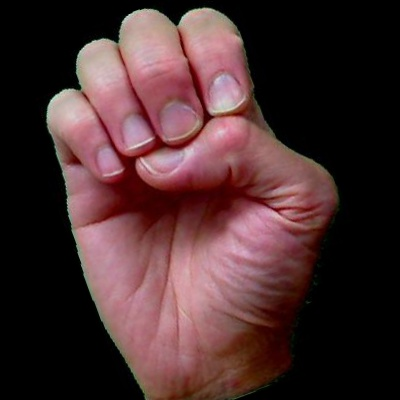e: (1, 1, 395, 393)
